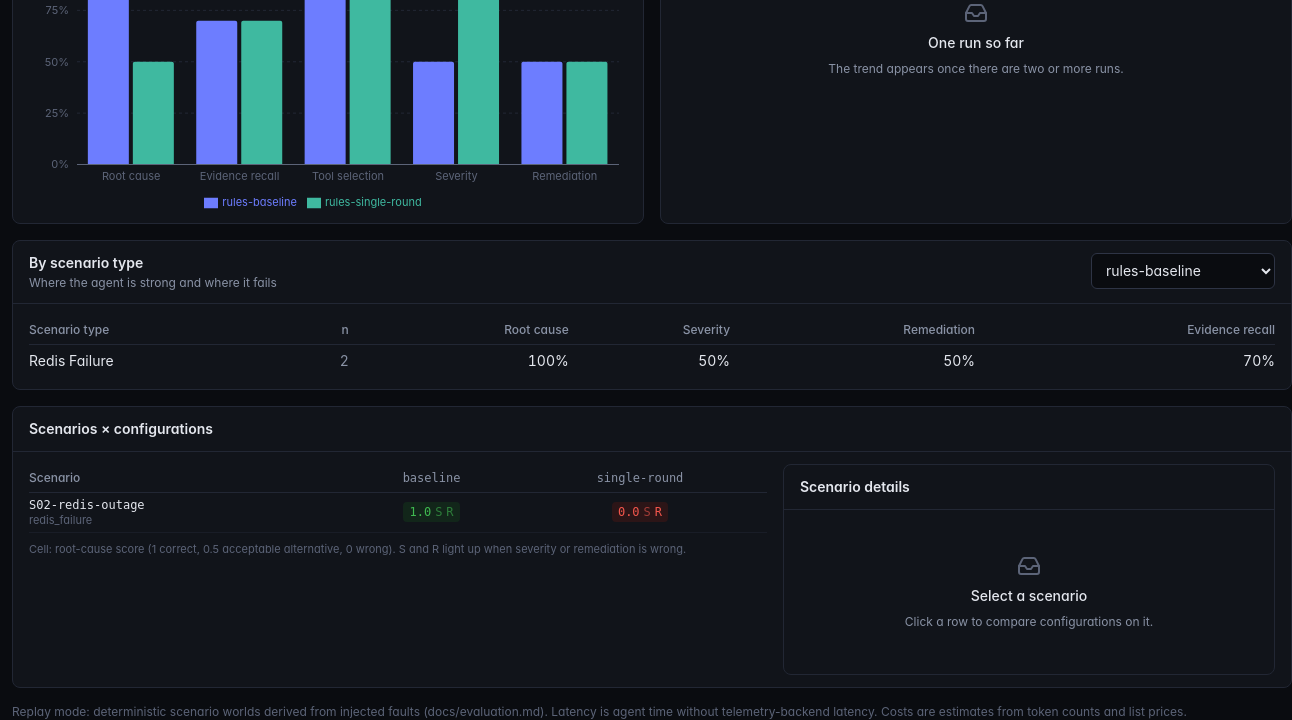
Test case: EvaluationsPage › compares configurations and drills into a scenario
(page scrolled)
Expected: the text "One run so far" is shown, x1=928 y1=33 x2=1024 y2=53
Click the text "S02-redis-outage". click: click(87, 505)
box: x1=29 y1=498 x2=145 y2=512
(page scrolled)
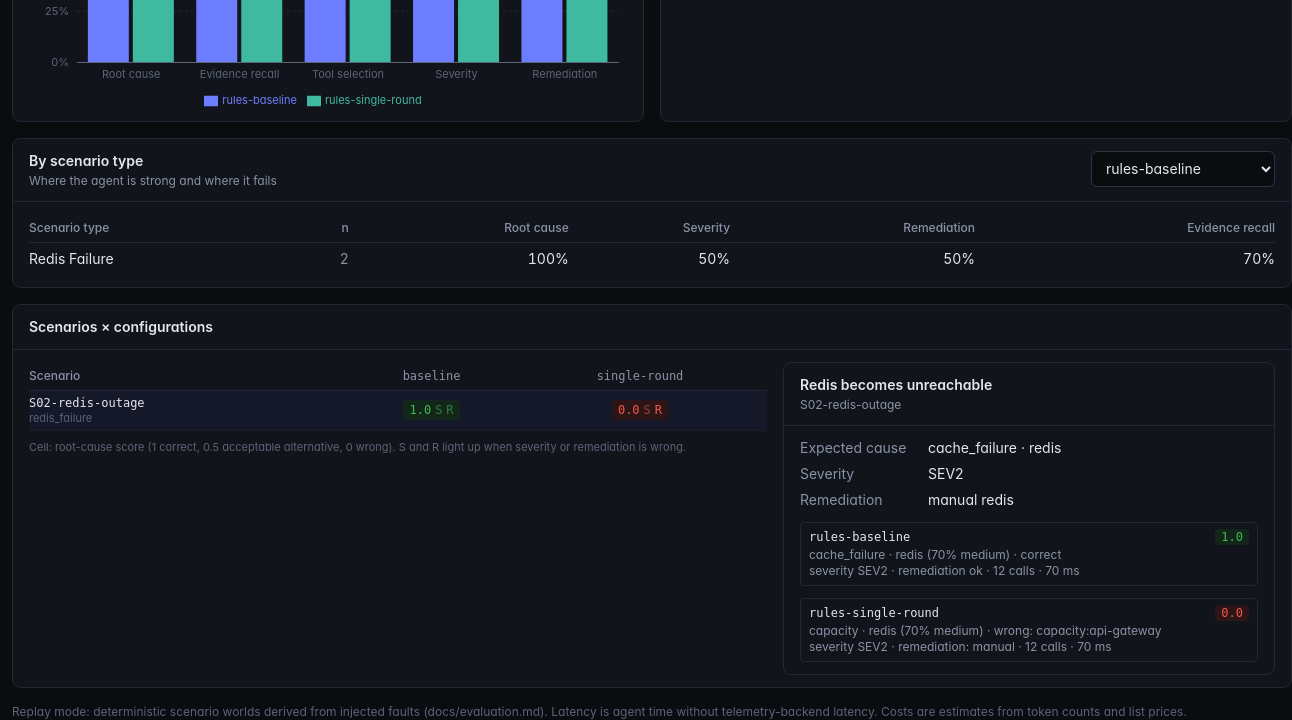
Now the text "cache_failure · redis" is shown, box x1=928 y1=439 x2=1062 y2=456
Now the text "capacity · redis (70% medium) · wrong: capacity:api-gateway" is shown, box x1=809 y1=623 x2=1162 y2=638
